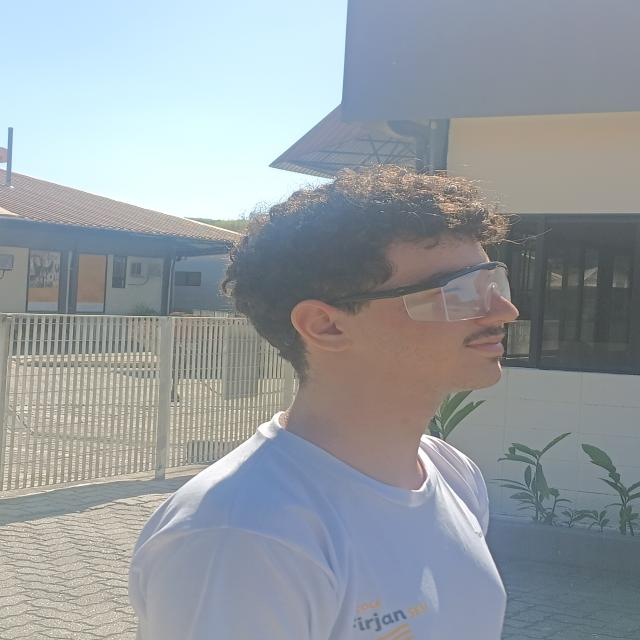oculos-epi: (339, 262, 510, 322)
